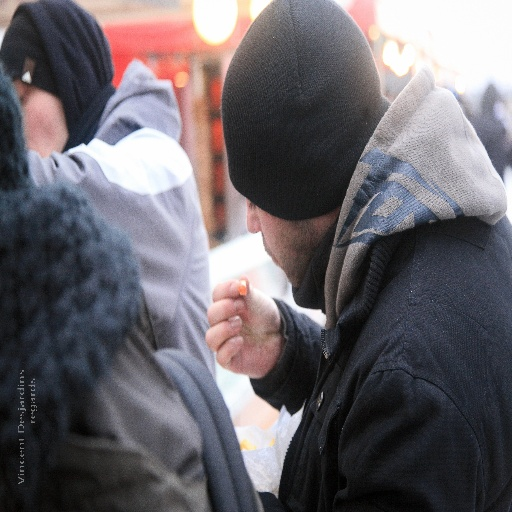hand: (197, 277, 295, 386)
